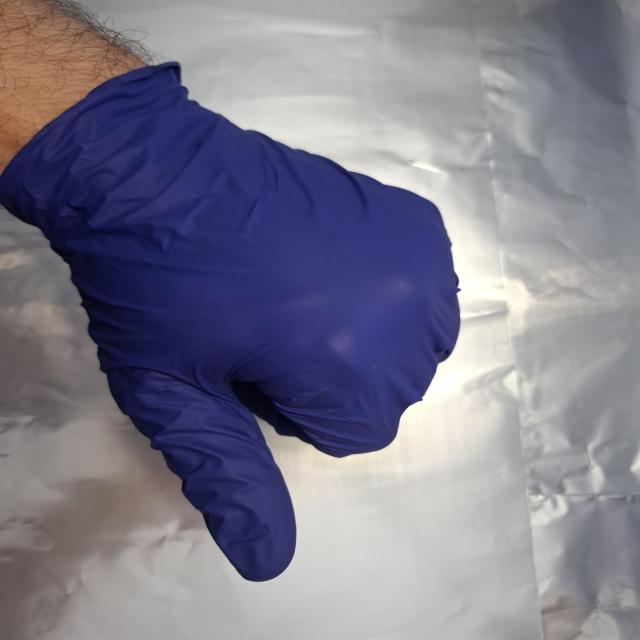glove_on: (18, 58, 467, 585)
